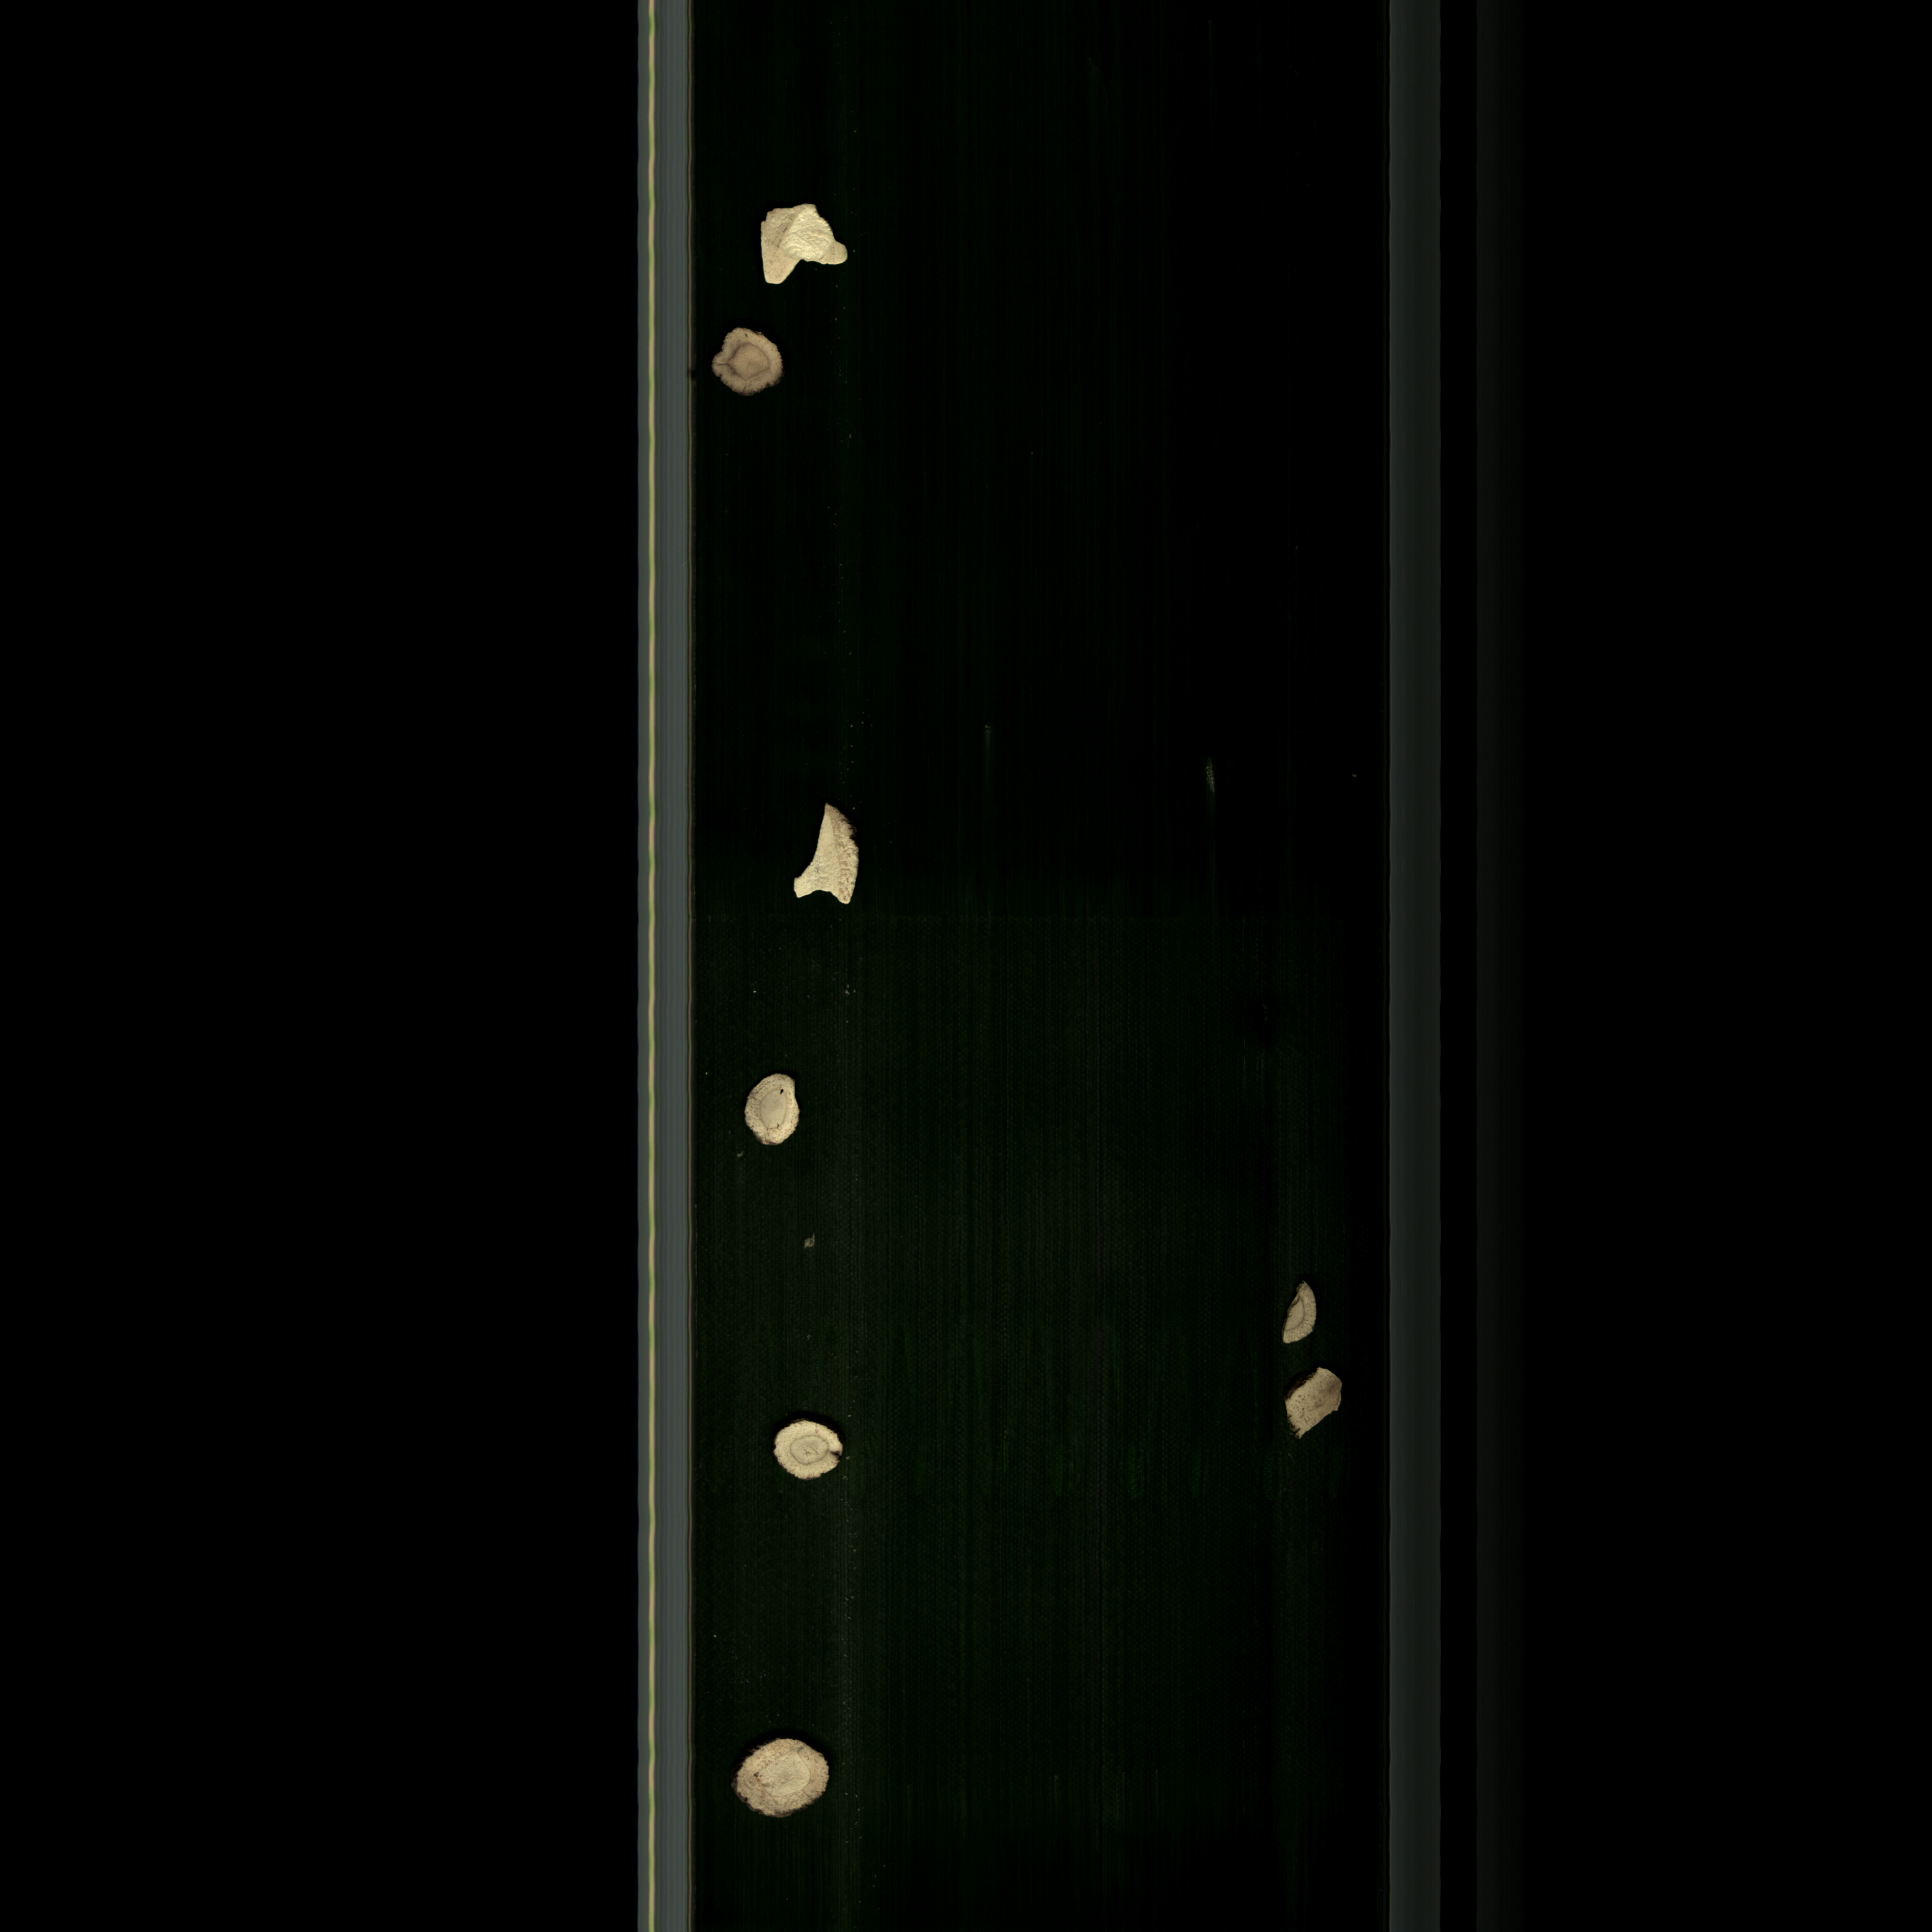debris: (748, 202, 862, 303), (780, 801, 858, 915)
dreg: (1263, 1277, 1329, 1353)
hole: (761, 1419, 863, 1495), (738, 1067, 809, 1159)
moldy: (699, 324, 801, 405), (1267, 1362, 1353, 1449)
